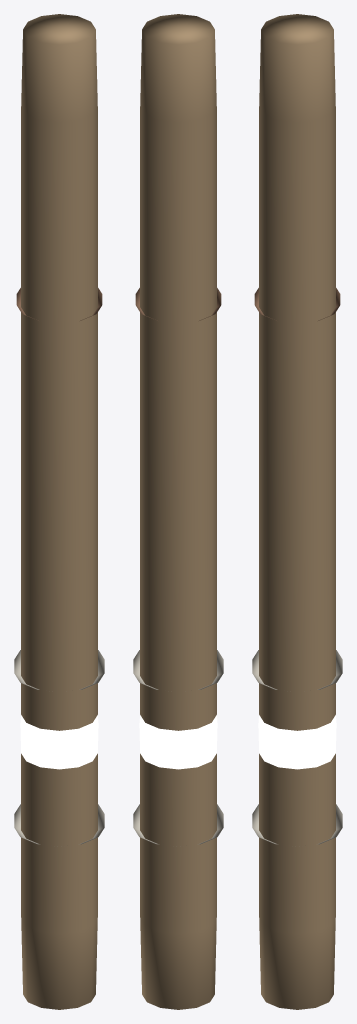
Rendered from exterior_uncommon.glb.
The picture shows the model from 3 angles, left to right: view 1: azimuth 90°, elevation 25°; view 2: azimuth 150°, elevation 25°; view 3: azimuth 270°, elevation 25°; orthographic projection.
Visible parts, largest first — view 1: exterior_uncommon; view 2: exterior_uncommon; view 3: exterior_uncommon.
Part boxes in pixels (x1,y1,x2,y2): exterior_uncommon: [14, 14, 104, 1009]; exterior_uncommon: [133, 14, 223, 1009]; exterior_uncommon: [252, 14, 342, 1009].
Size of the model in its own units: 0.085 by 1 by 0.085.
